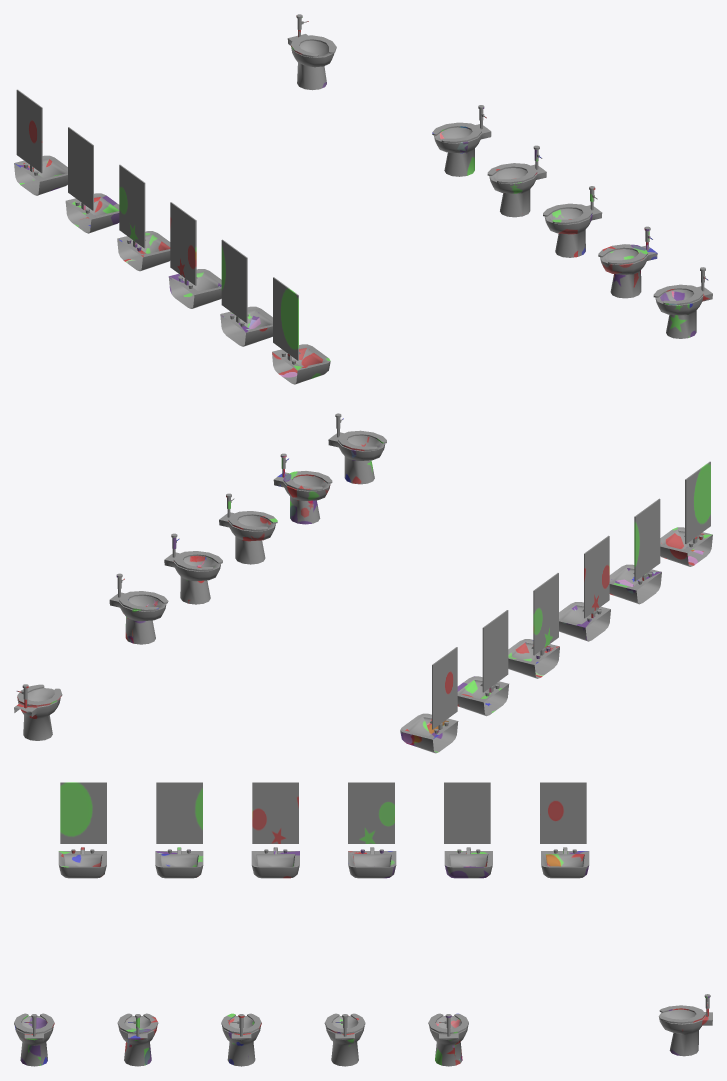
The model's file is bathroomFurniture.fbx.
3 views of the same model, one above another, from view 1: azimuth 30°, elevation 25°; view 2: azimuth 150°, elevation 25°; view 3: azimuth 270°, elevation 25° (orthographic). The views are drawn at different scales.
Visible parts, largest first — view 1: toiletsBathroom; view 2: toiletsBathroom; view 3: toiletsBathroom.
Part boxes in pixels (bbox=[...]): toiletsBathroom: bbox=[14, 14, 712, 384]; toiletsBathroom: bbox=[14, 413, 712, 753]; toiletsBathroom: bbox=[14, 782, 712, 1066].
Size of the model in its own units: 1834 by 516 by 2988.
